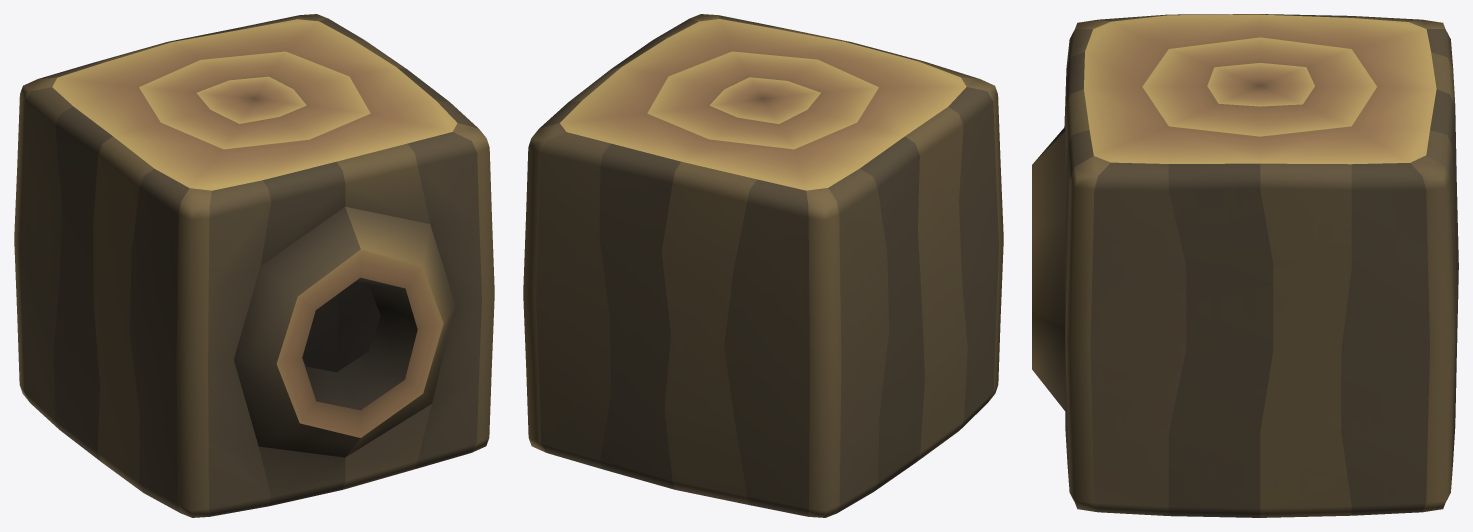
The model's file is log2_LOD_group.fbx.
3 views of the same model, side by side, from view 1: azimuth 30°, elevation 25°; view 2: azimuth 150°, elevation 25°; view 3: azimuth 270°, elevation 25° (orthographic). The views are drawn at different scales.
Visible parts, largest first — view 1: log2_LOD0; view 2: log2_LOD0; view 3: log2_LOD0.
Part boxes in pixels (x1,y1,x2,y2): log2_LOD0: (14,14,494,517); log2_LOD0: (523,14,1003,517); log2_LOD0: (1032,14,1458,517).
Size of what is drawn, in the model's own units: 109 by 109 by 117.
Materials: 1 (1 with a texture image).
